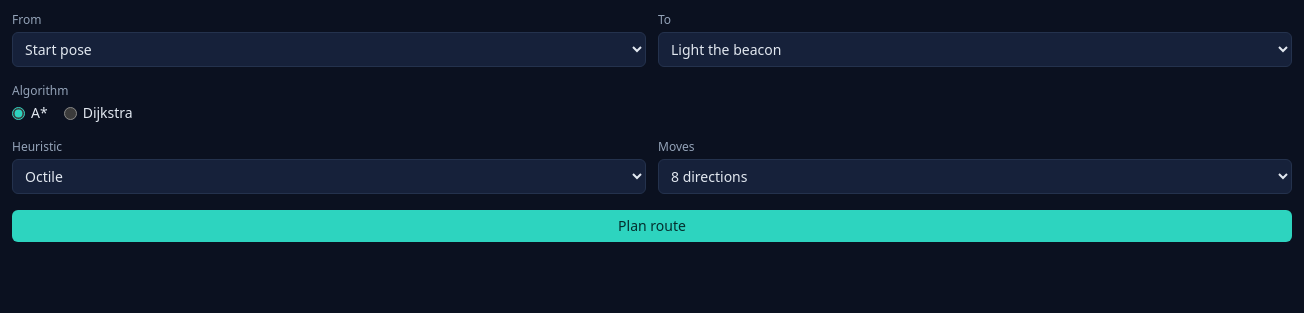
Test case: RoutePanel › explains why a route could not be planned
Click the button "Plan route".
click(652, 226)  # box [12,210,1292,242]
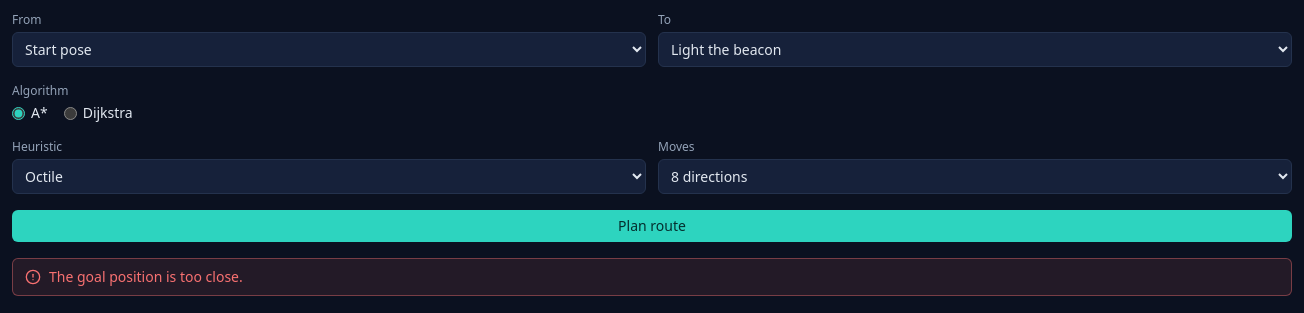
Check: the message reads "The goal position is too close.", box [49,267,243,286]
